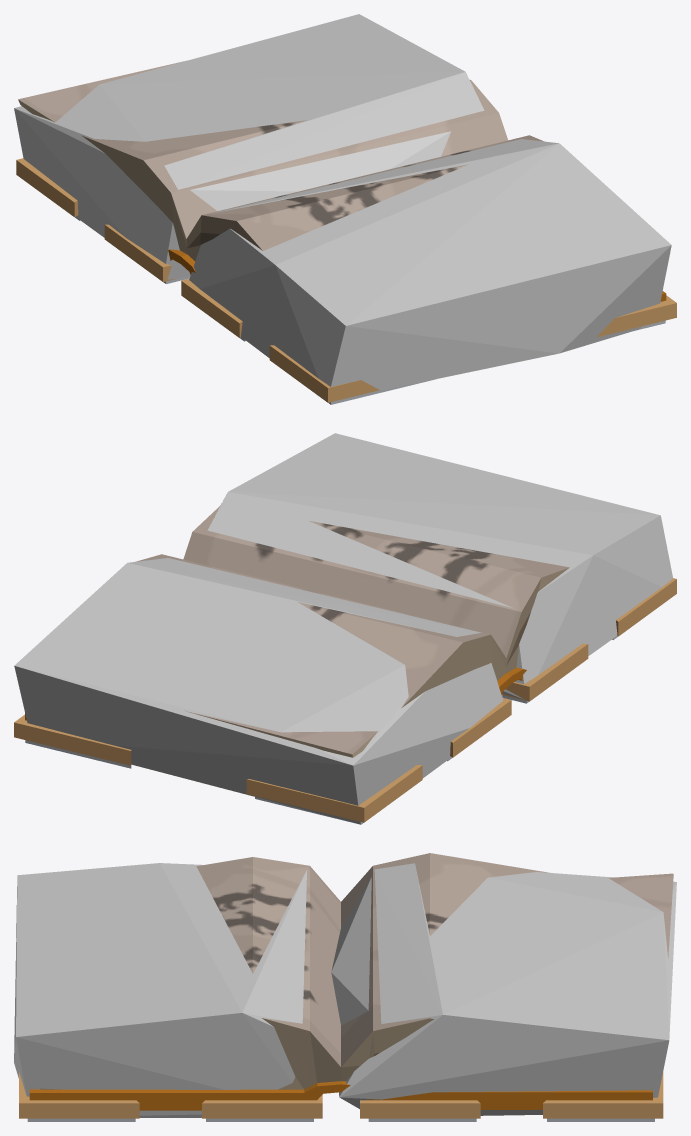
Rendered from SM_Item_Spellbook_Open_06.fbx.
3 renders of one model, top to bottom at view 1: azimuth 30°, elevation 25°; view 2: azimuth 150°, elevation 25°; view 3: azimuth 270°, elevation 25°, orthographic. The views are drawn at different scales.
Visible parts, largest first — view 1: SM_Item_Spellbook_Open_06_ConvexHulls, SM_Item_Spellbook_Open_06; view 2: SM_Item_Spellbook_Open_06_ConvexHulls, SM_Item_Spellbook_Open_06; view 3: SM_Item_Spellbook_Open_06_ConvexHulls, SM_Item_Spellbook_Open_06.
Boxes of the visible parts, box(x1,y1,x2,y2) form: SM_Item_Spellbook_Open_06_ConvexHulls: box(14, 14, 671, 393); SM_Item_Spellbook_Open_06: box(16, 60, 676, 404); SM_Item_Spellbook_Open_06_ConvexHulls: box(14, 433, 673, 824); SM_Item_Spellbook_Open_06: box(14, 505, 676, 824); SM_Item_Spellbook_Open_06_ConvexHulls: box(14, 863, 676, 1117); SM_Item_Spellbook_Open_06: box(19, 853, 673, 1121).
Bounding box in the file's own units: 38.84 × 61.84 × 11.72.
Materials: 2 (1 with a texture image).
